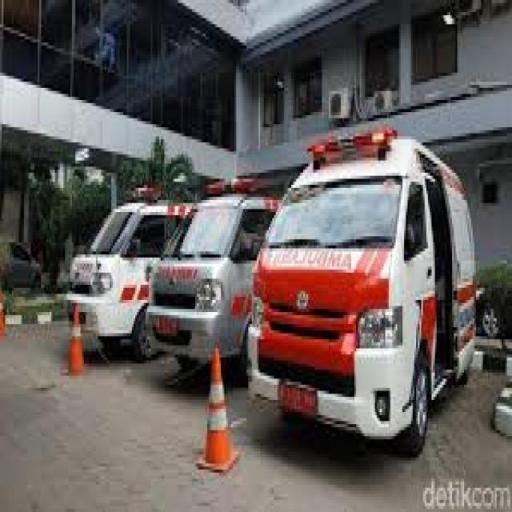Police car: (248, 133, 474, 452)
